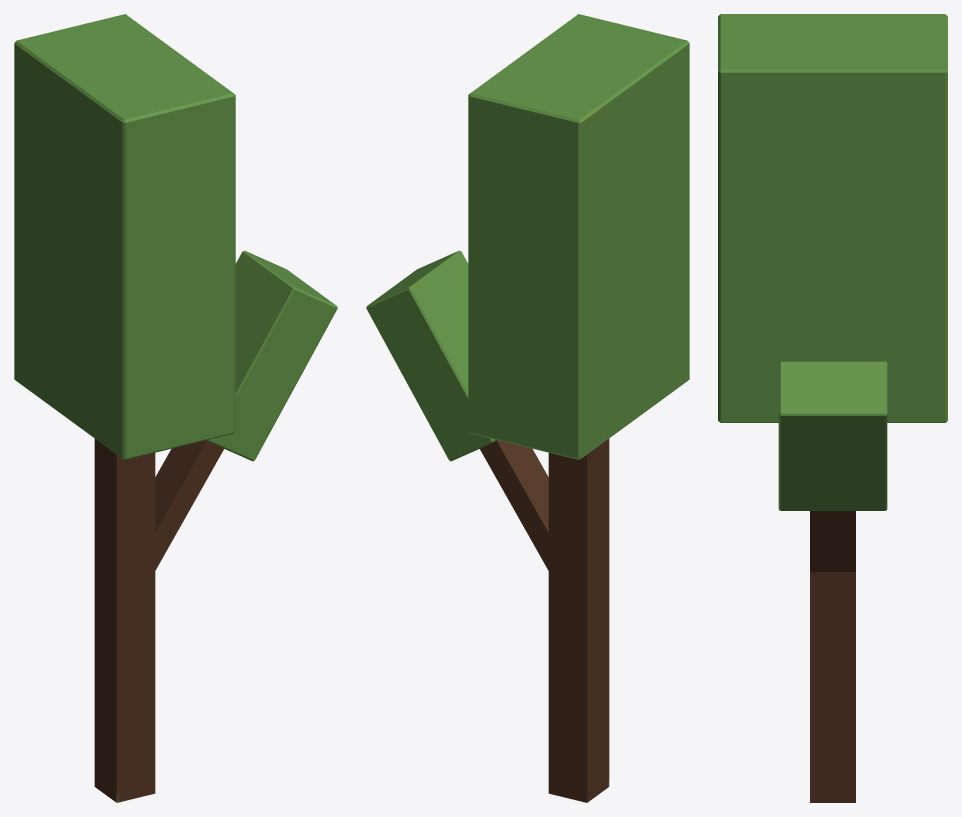
File: SariyTree1-1.fbx
The picture shows the model from 3 angles, left to right: view 1: azimuth 30°, elevation 25°; view 2: azimuth 150°, elevation 25°; view 3: azimuth 270°, elevation 25°; orthographic projection. The views are drawn at different scales.
Visible parts, largest first — view 1: Cube; view 2: Cube; view 3: Cube.
Boxes of the visible parts, x1,y1,x2,y2 form: Cube: (14,14,337,802); Cube: (366,14,689,802); Cube: (718,14,947,802).
Size of the model in its own units: 1272 by 3599 by 997.
Materials: 1 (1 with a texture image).
